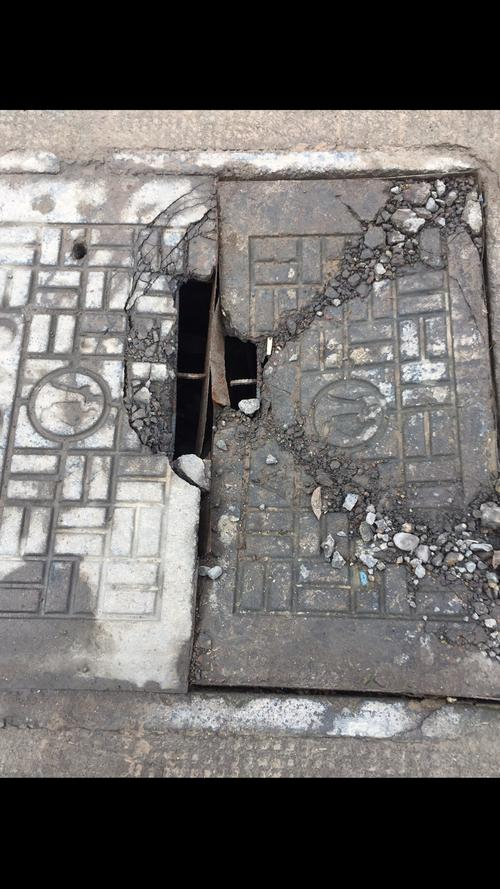broke: (6, 144, 499, 751)
